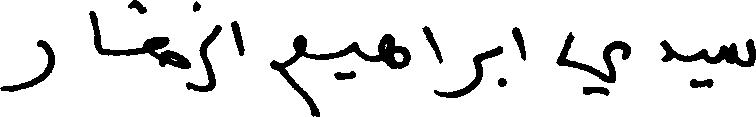X: (559, 27, 627, 100), (145, 2, 189, 94), (0, 35, 53, 96), (274, 30, 306, 106), (442, 48, 481, 102), (191, 0, 212, 96), (423, 21, 440, 101), (378, 29, 408, 73), (722, 34, 755, 71), (89, 6, 99, 58), (214, 20, 220, 92), (515, 22, 525, 65), (350, 37, 359, 83), (233, 16, 242, 60), (699, 44, 706, 92), (662, 35, 672, 66), (496, 41, 500, 91)
